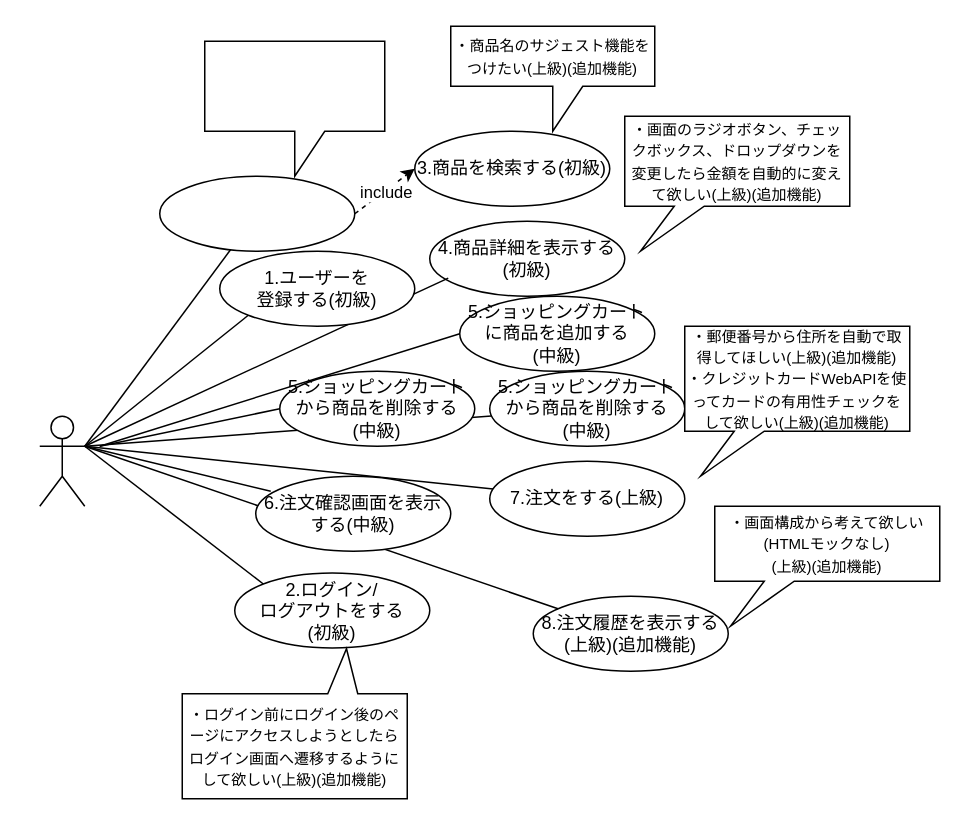
The diagram is 966 pixels wide and 825 high, and some of its shapes have lost their labels. The shapes that lost their labels are listed below. From the top down, each one's box as (x1, y1, x2, y2) in pixels, then its label:
(203, 40, 385, 176): ・ページング機能をつけたい(上級)(追加機能) ・並び順を選択して変えたい(上級)(追加機能)
(158, 175, 355, 251): 3.商品一覧を表示する(初級)
(38, 415, 85, 506): ユーザー
